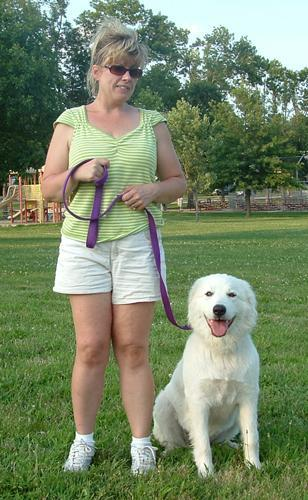Great_Pyrenees: (148, 266, 267, 482)
